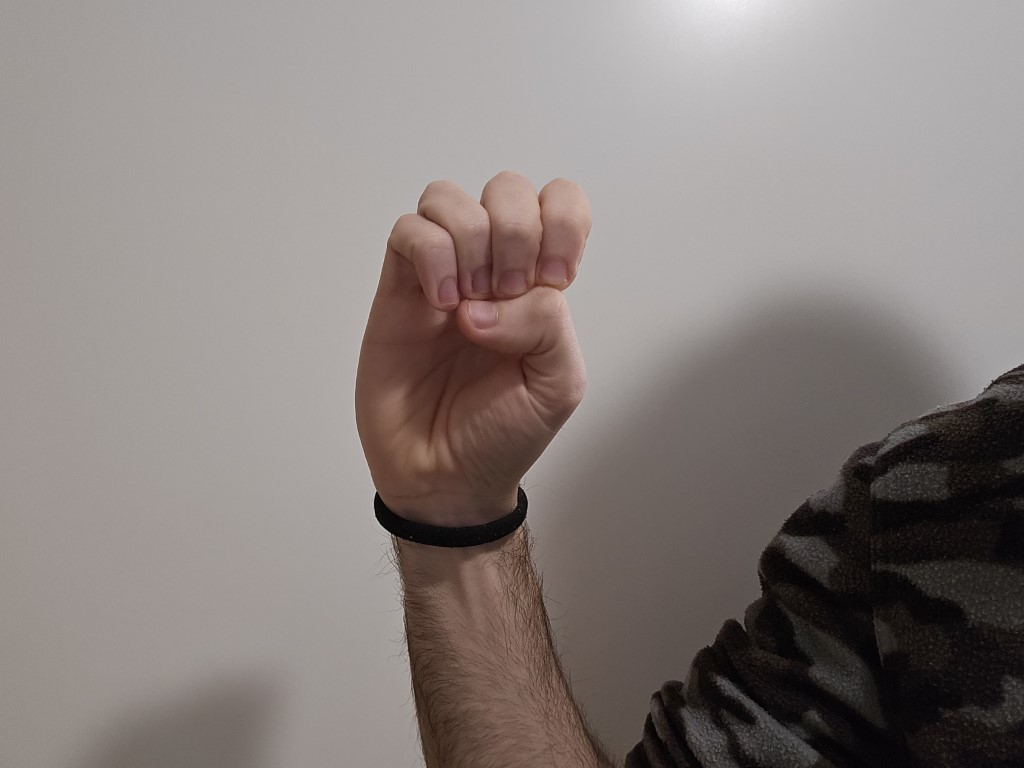e: (343, 154, 601, 507)
